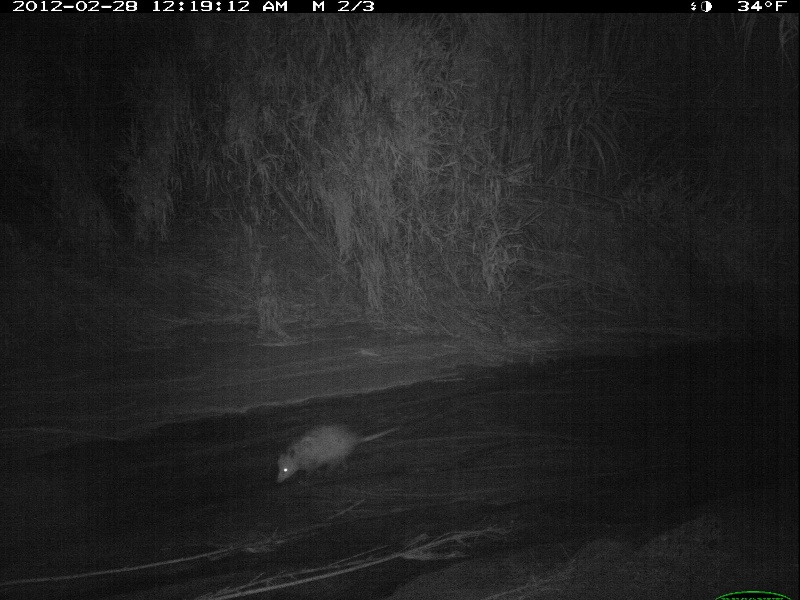opossum: (274, 416, 409, 485)
